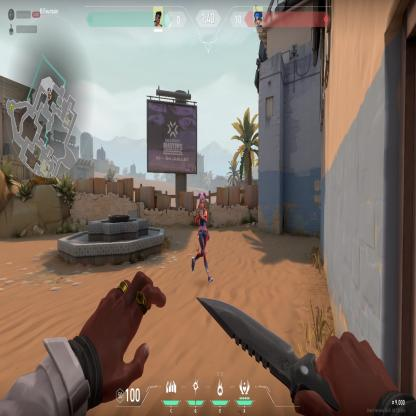enemy: (189, 190, 214, 286)
